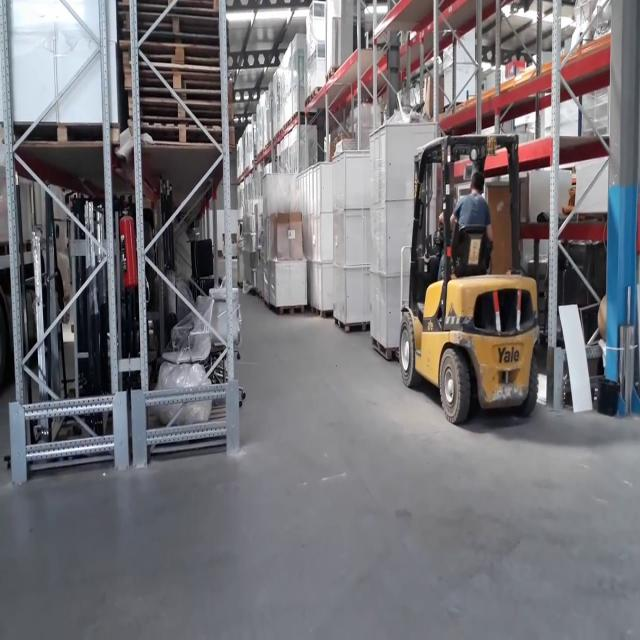Chariot elevateur: (393, 127, 543, 431)
